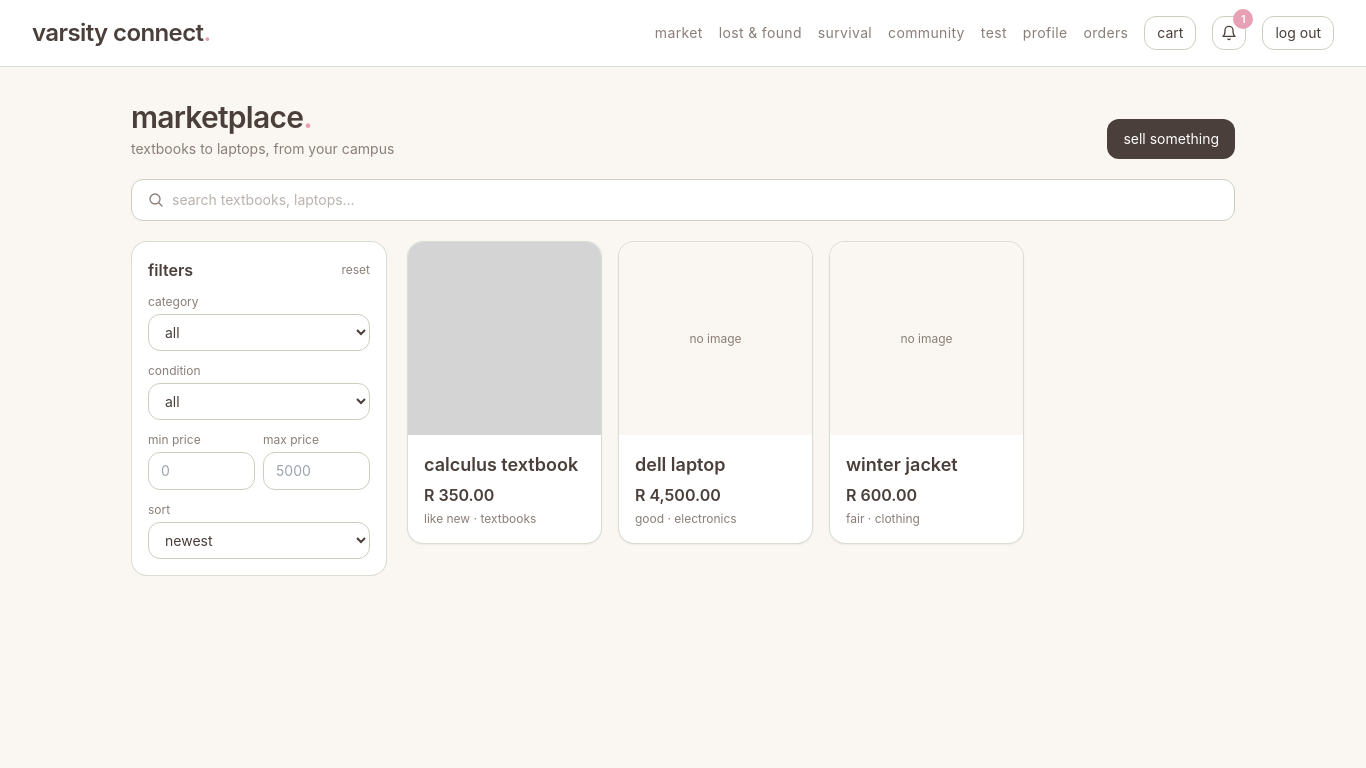
Scenario: marketplace page › search updates the url and narrows the grid
expect the text "calculus textbook" is shown: met, box [424,451,585,479]
Type "laptop" into the search field named "search listings". click: (695, 200)
box: [172,190,1218,210]
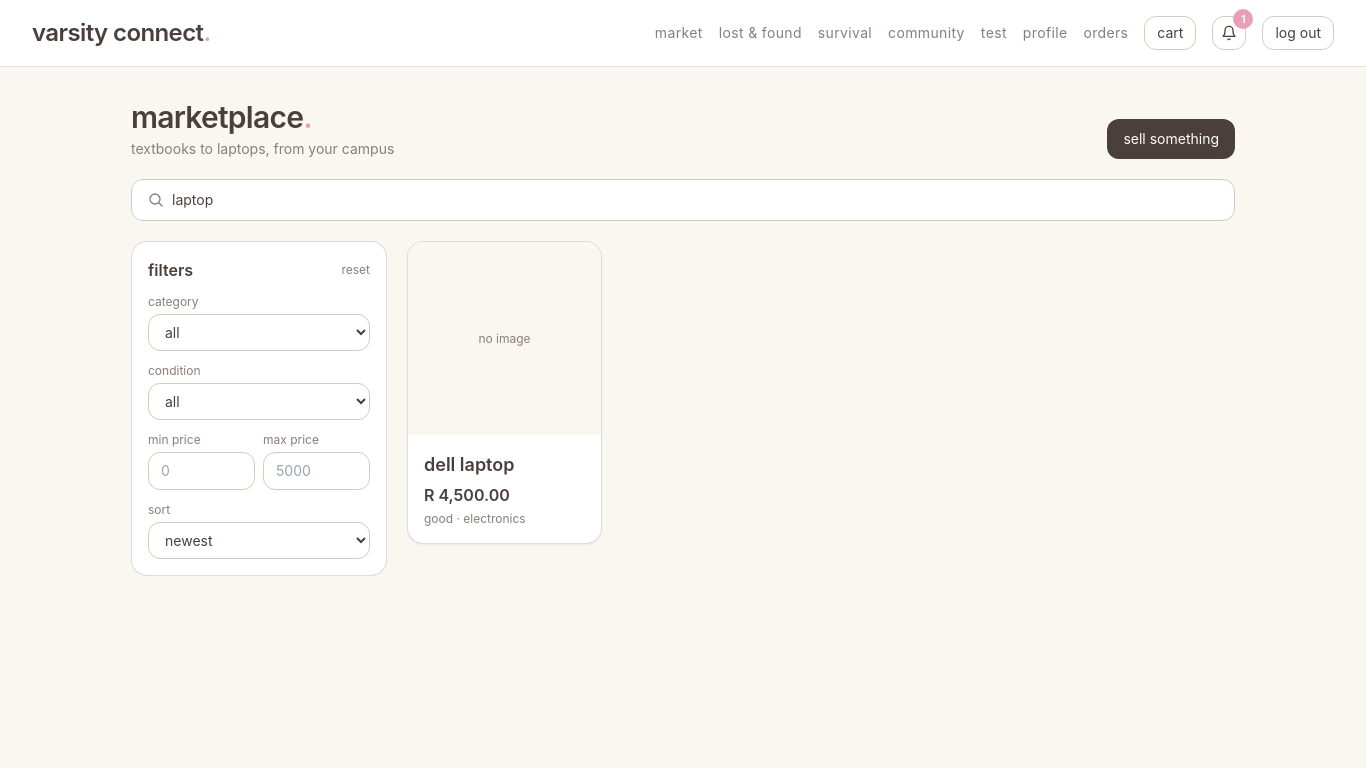
expect the text "dell laptop" is shown: met, box [424,454,514,475]
expect the link "calculus textbook" is gone: met
